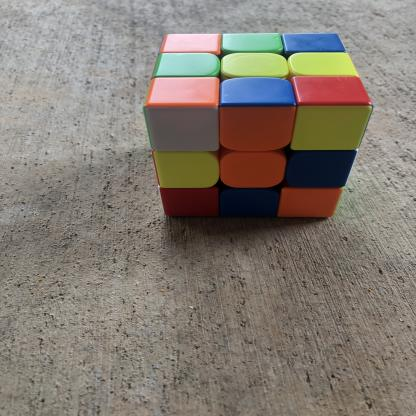UnsolvedCube: (128, 26, 366, 233)
